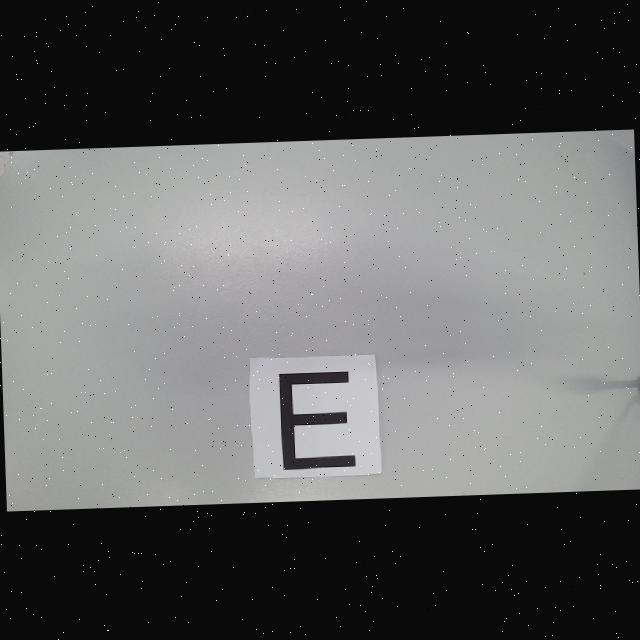FAKE: (279, 370, 356, 470)
